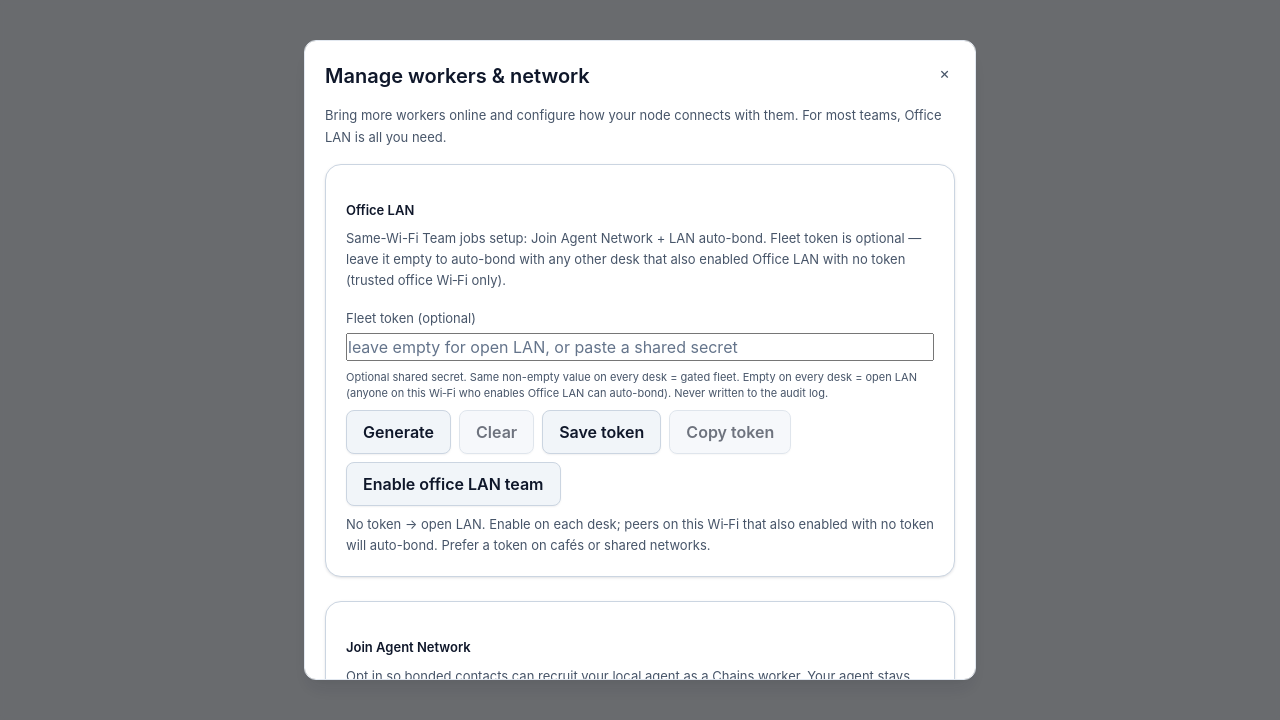
Test: AgentNetworkSettingsModal — Office LAN › rejects a too-short non-empty fleet token without persisting
Type "abc" into the field with test id "office-lan-fleet-token" at (640, 347), box [346,333,934,361]
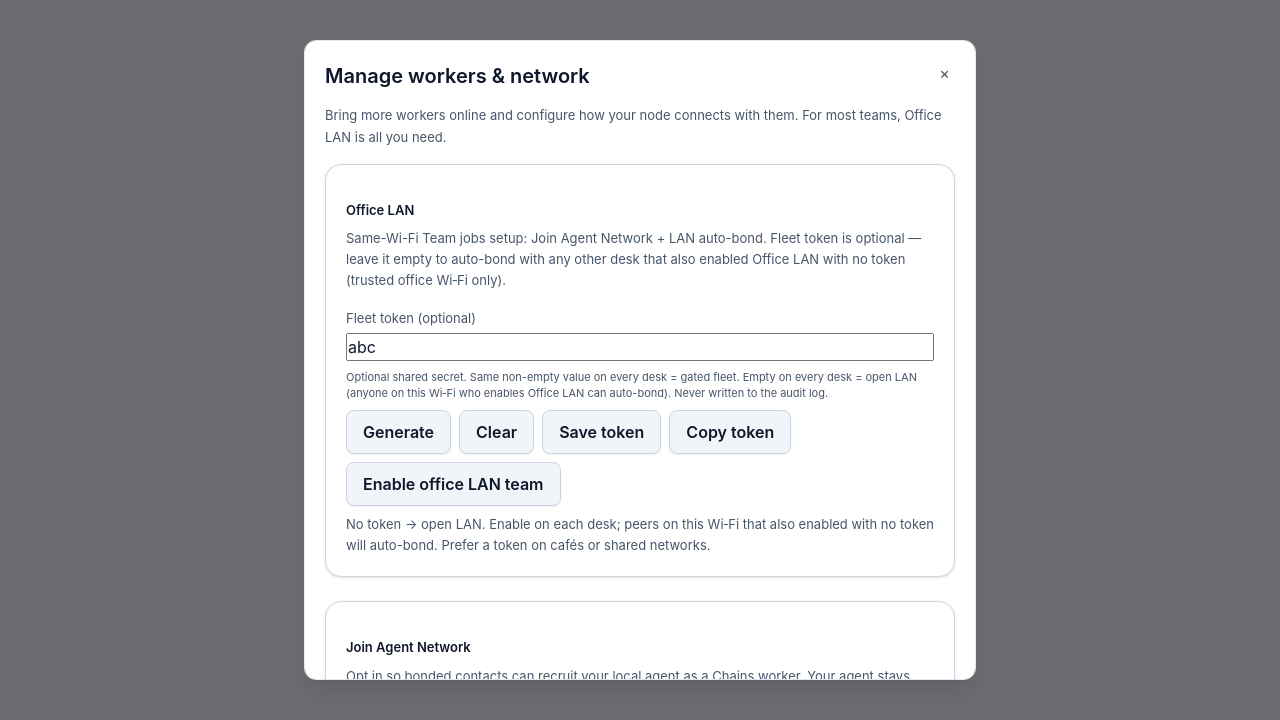
Click the button with test id "office-lan-save-token" at (602, 432), box [542,410,661,454]
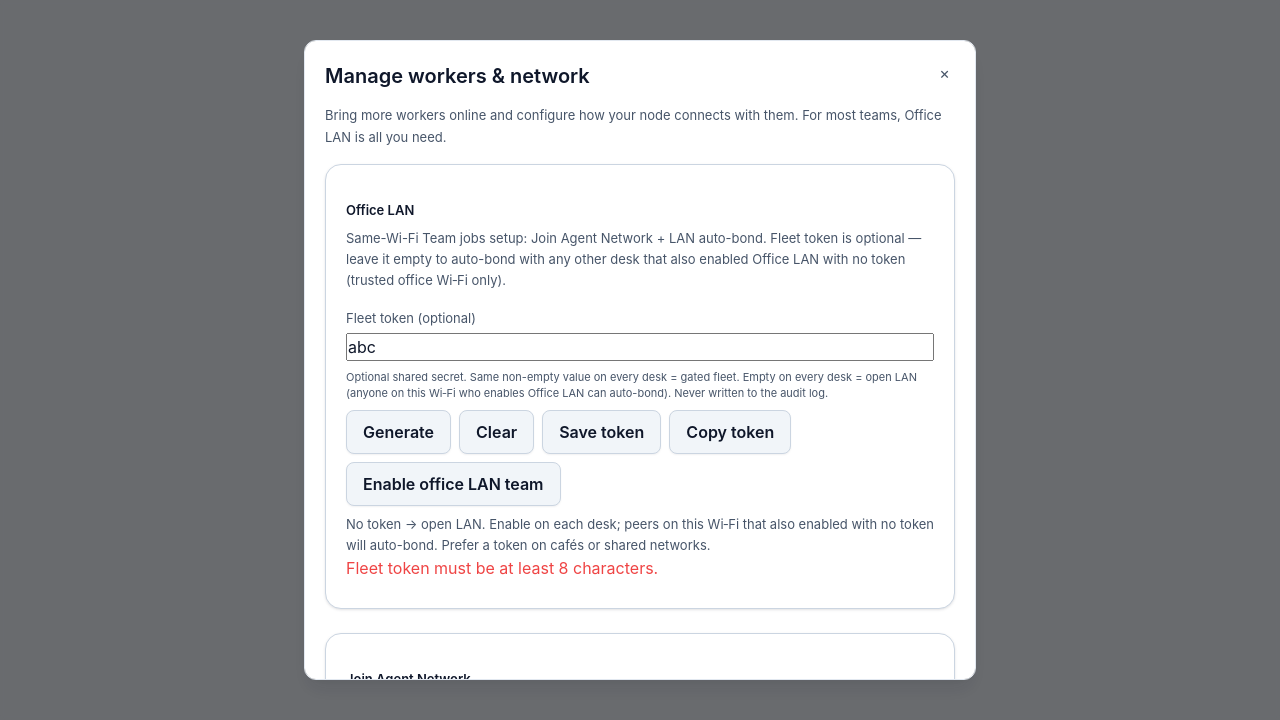
Now the text "Fleet token must be at least 8 characters." is shown, box [346,558,658,578]
